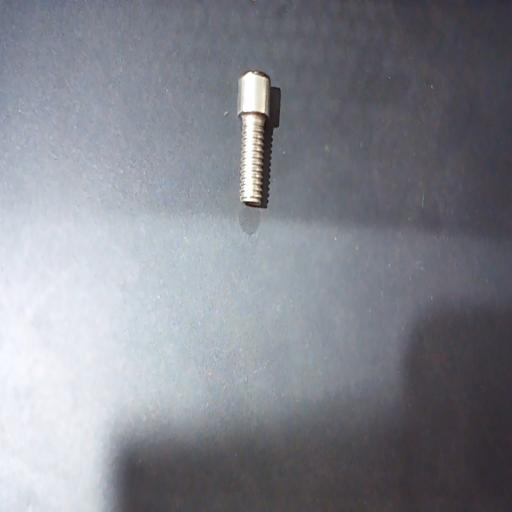screw: (237, 70, 271, 207)
